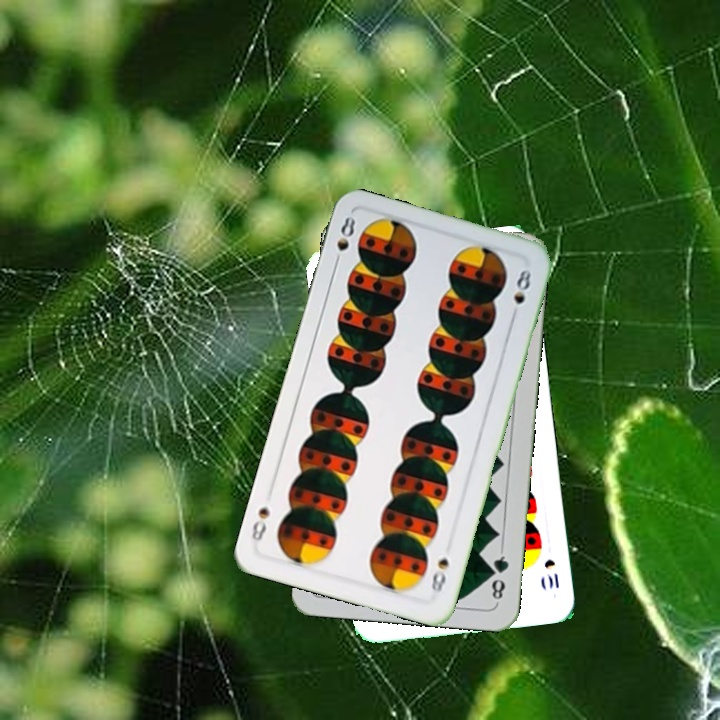G8: (486, 546, 512, 605)
S10: (540, 555, 562, 591)
S8: (330, 212, 358, 270), (427, 554, 451, 596)
